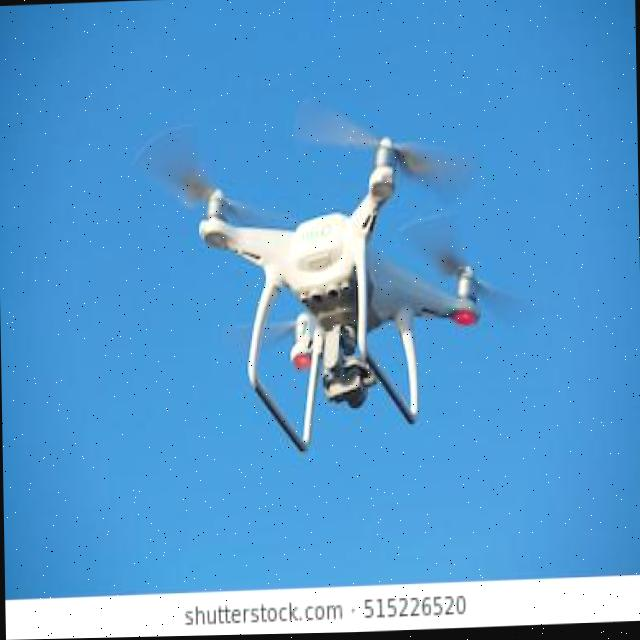drone: (0, 145, 640, 640)
